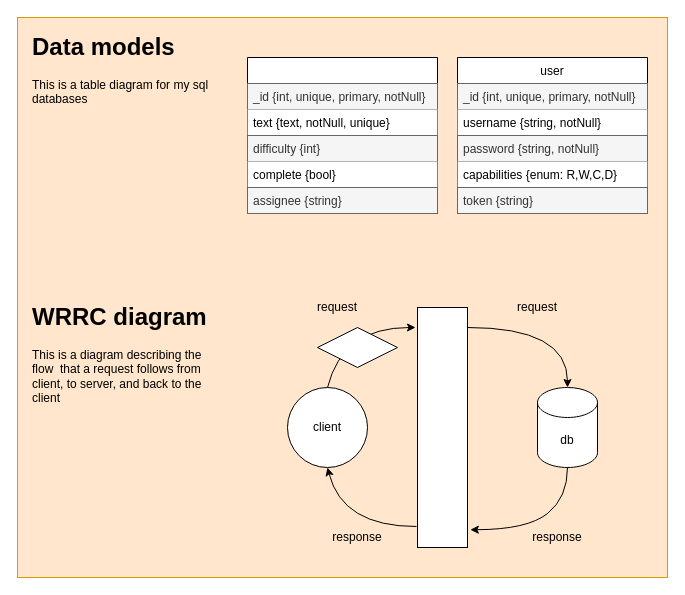
The diagram is 685 pixels wide and 595 high, and some of its shapes have lost their labels. Here are the shapes that lost their labels. From the top down, the box of each, then its label:
(246, 56, 438, 214): todo item
(316, 326, 398, 368): Auth
(416, 306, 468, 548): router
